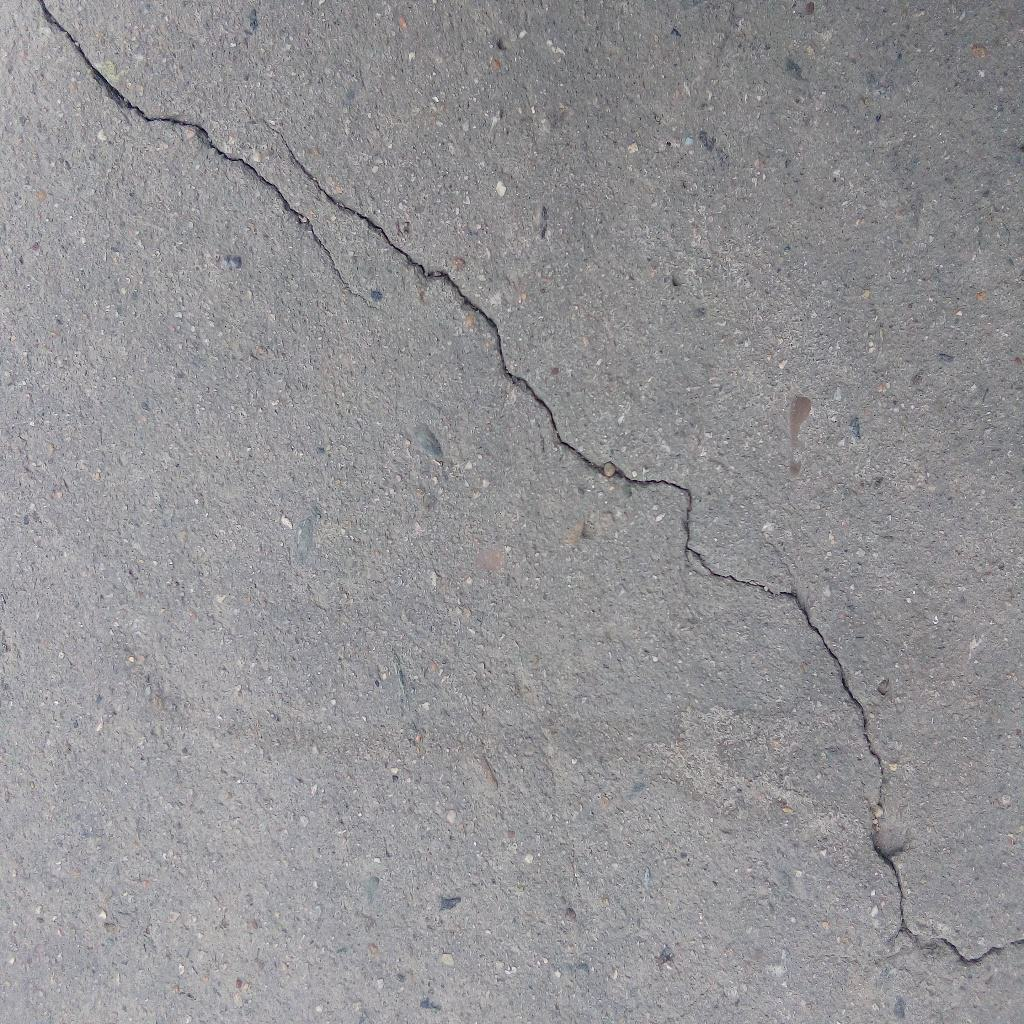Crack: (249, 118, 1024, 963), (36, 1, 390, 317)
